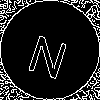N: (25, 25, 74, 80)
